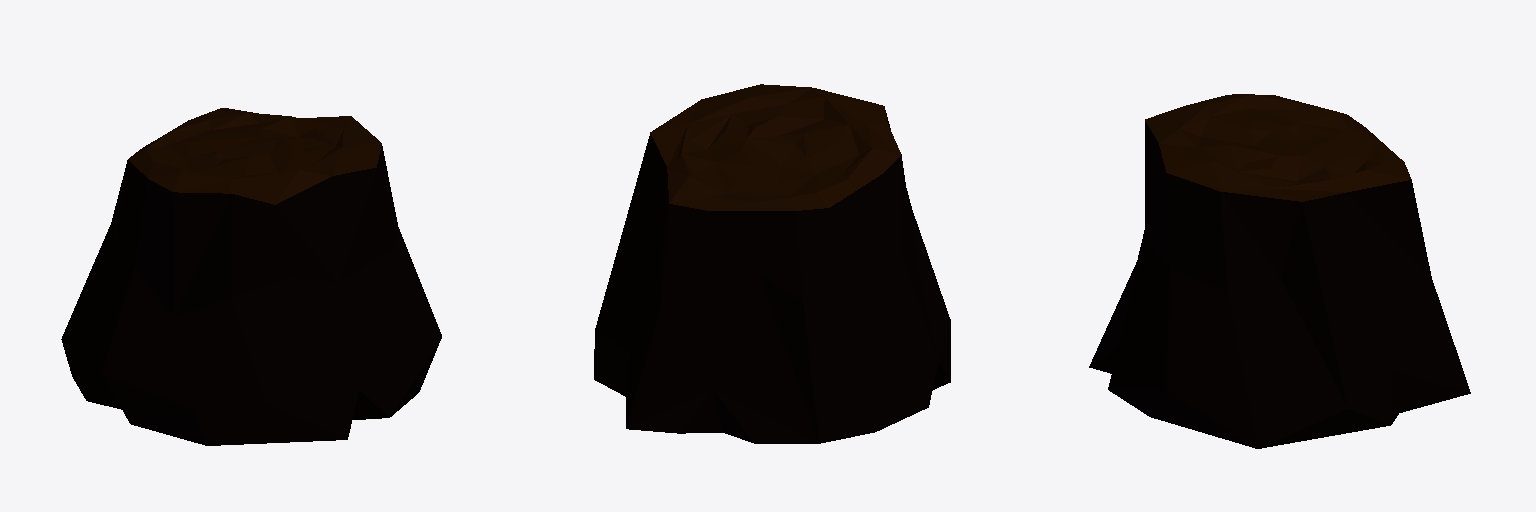
Rendered from stump.obj.
The picture shows the model from 3 angles: view 1: azimuth 30°, elevation 25°; view 2: azimuth 150°, elevation 25°; view 3: azimuth 270°, elevation 25°; orthographic projection.
Parts seen in each view (by area): view 1: SM_Logging_Stump; view 2: SM_Logging_Stump; view 3: SM_Logging_Stump.
Part boxes in pixels (x1,y1,x2,y2): SM_Logging_Stump: (61,108,441,445); SM_Logging_Stump: (594,84,950,443); SM_Logging_Stump: (1089,94,1470,448).
Size of the model in its own units: 3.11 by 2.23 by 3.12.